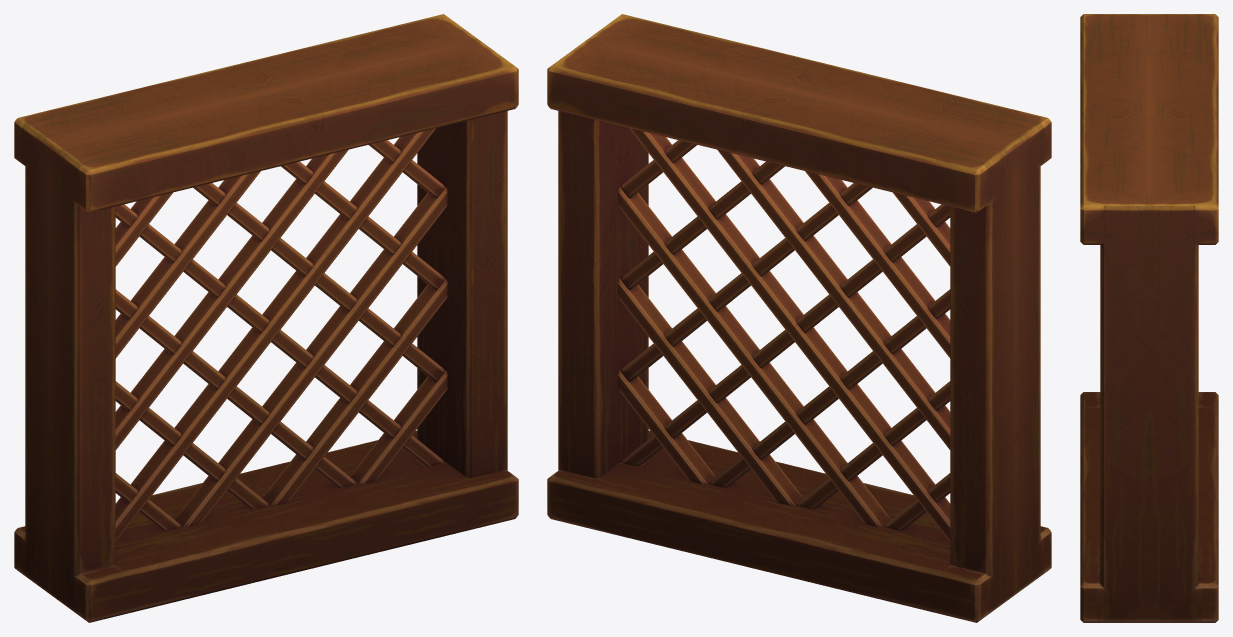
File: SM_BigWall_WoodWindow.glb
The picture shows the model from 3 angles, left to right: view 1: azimuth 30°, elevation 25°; view 2: azimuth 150°, elevation 25°; view 3: azimuth 270°, elevation 25°; orthographic projection. The views are drawn at different scales.
Visible parts, largest first — view 1: SM_BigWall_WoodWindow_LOD0; view 2: SM_BigWall_WoodWindow_LOD0; view 3: SM_BigWall_WoodWindow_LOD0.
Boxes of the visible parts, bbox=[...] form: SM_BigWall_WoodWindow_LOD0: bbox=[14, 14, 518, 622]; SM_BigWall_WoodWindow_LOD0: bbox=[547, 14, 1051, 622]; SM_BigWall_WoodWindow_LOD0: bbox=[1080, 14, 1218, 622].
Bounding box in the file's own units: 1.29 × 1.29 × 0.3886.
Materials: 1 (1 with a texture image).
